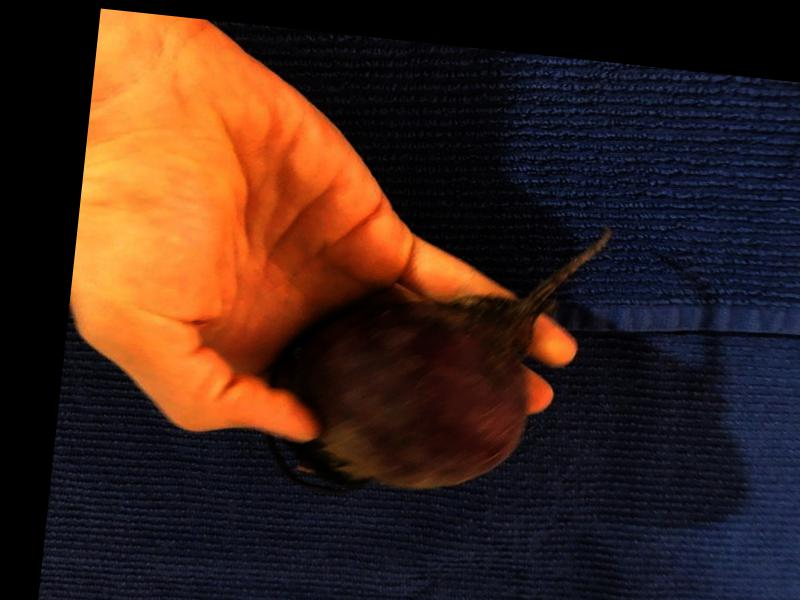Beet: (260, 193, 614, 520)
